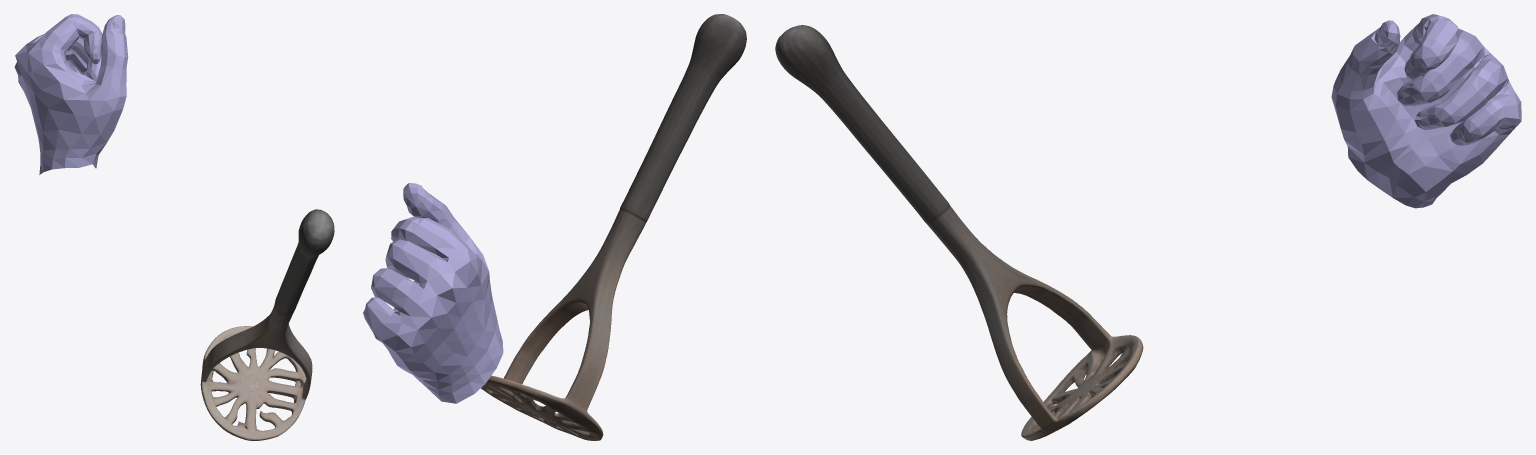
Rendered from frame_0019_source_000019_hand_object.glb.
3 views of the same model, side by side, from view 1: azimuth 30°, elevation 25°; view 2: azimuth 150°, elevation 25°; view 3: azimuth 270°, elevation 25° (orthographic). The views are drawn at different scales.
Parts seen in each view (by area): view 1: world; view 2: world; view 3: world.
Boxes of the visible parts, x1,y1,x2,y2 form: world: (14,14,334,440); world: (363,14,746,440); world: (775,14,1521,440).
Bounding box in the file's own units: 0.1055 × 0.2366 × 0.3934.
